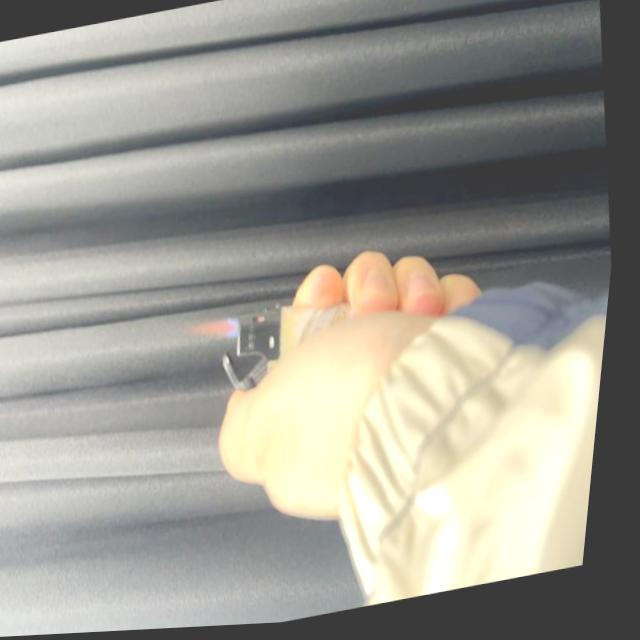Fire: (180, 313, 249, 353)
